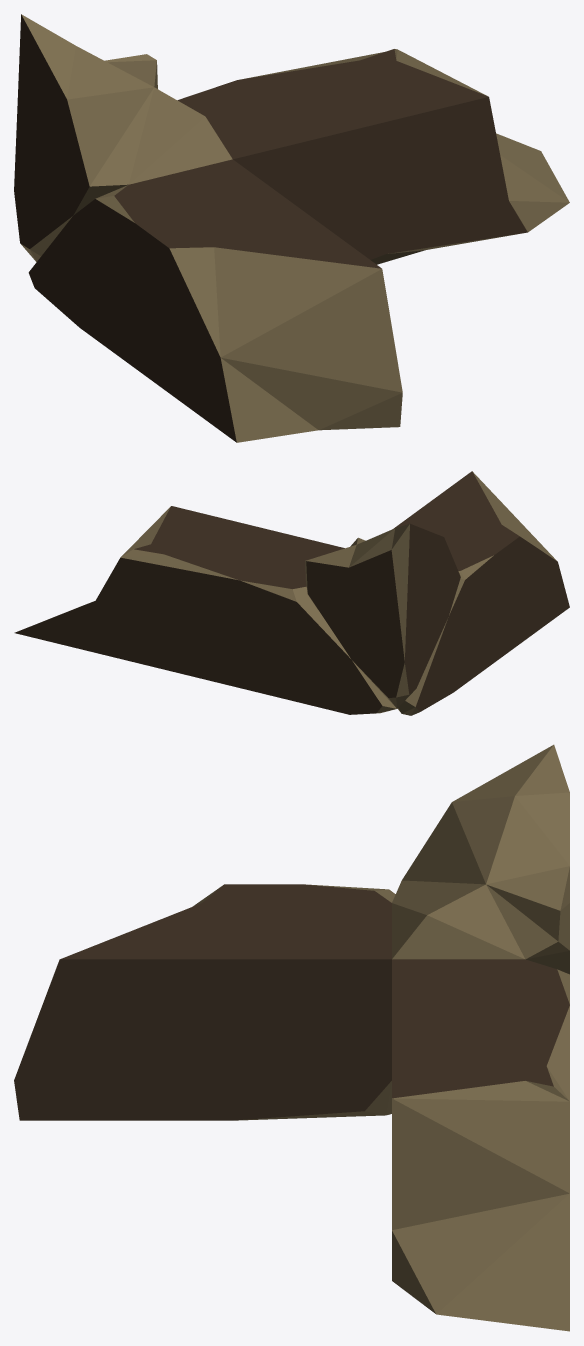
The model's file is Wooden_box_C_03.FBX.
3 views of the same model, one above another, from view 1: azimuth 30°, elevation 25°; view 2: azimuth 150°, elevation 25°; view 3: azimuth 270°, elevation 25° (orthographic). The views are drawn at different scales.
Parts seen in each view (by area): view 1: Wooden_box_C_03; view 2: Wooden_box_C_03; view 3: Wooden_box_C_03.
Boxes of the visible parts, box(x1,y1,x2,y2) form: Wooden_box_C_03: box(14, 14, 569, 442); Wooden_box_C_03: box(14, 471, 569, 715); Wooden_box_C_03: box(14, 744, 569, 1331).
Size of the model in its own units: 0.8526 by 0.4186 by 0.7006.
